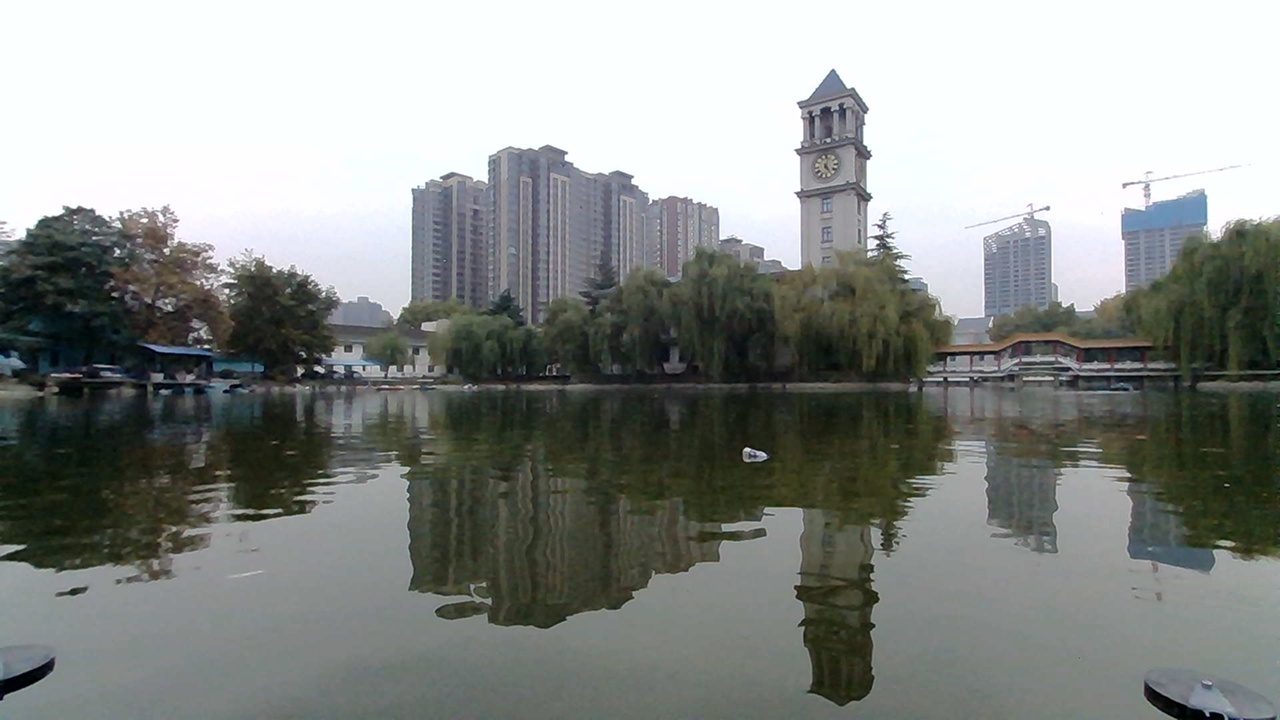bottle: (733, 438, 772, 468)
